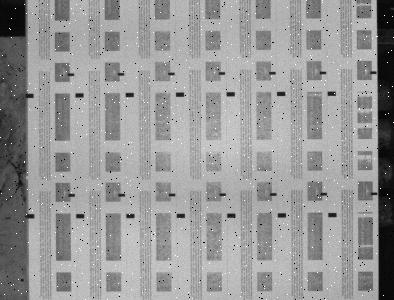qblock: (26, 213, 35, 218), (328, 91, 337, 96), (277, 91, 286, 96), (176, 92, 185, 97), (126, 213, 135, 218), (227, 213, 236, 218), (177, 213, 186, 218), (26, 93, 34, 98), (126, 92, 134, 97), (329, 212, 337, 217), (75, 93, 84, 97), (76, 214, 85, 218), (278, 213, 287, 217), (227, 92, 235, 96)
smallqblock: (219, 71, 226, 75), (68, 193, 75, 197), (270, 192, 277, 196), (118, 73, 125, 76), (269, 71, 276, 74), (320, 71, 327, 74), (118, 193, 125, 196), (371, 71, 378, 74), (321, 192, 328, 195), (169, 193, 176, 196), (220, 193, 227, 196), (371, 192, 378, 195), (68, 73, 74, 76), (169, 72, 175, 75)
